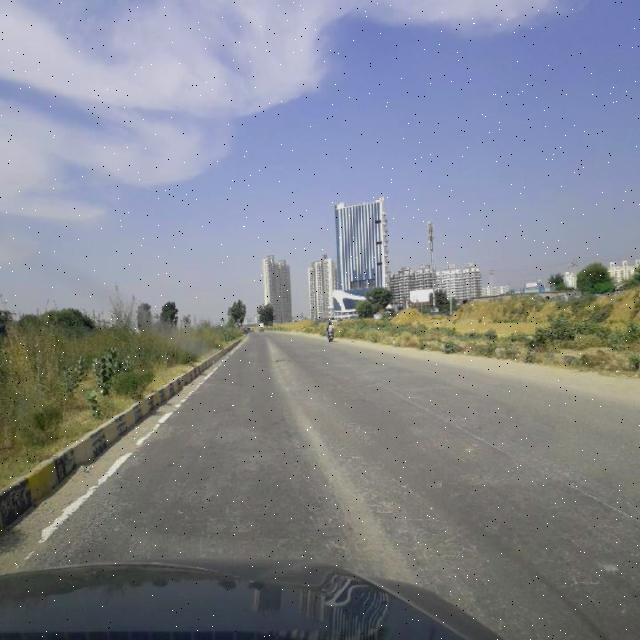D00: (396, 384, 640, 534)
D20: (313, 436, 484, 582)
